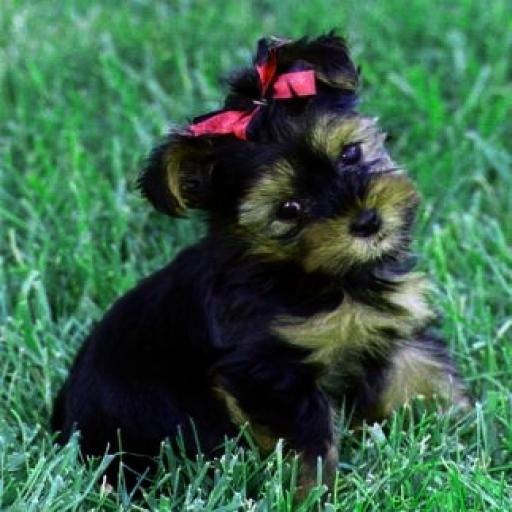dog_face: (155, 40, 416, 269)
